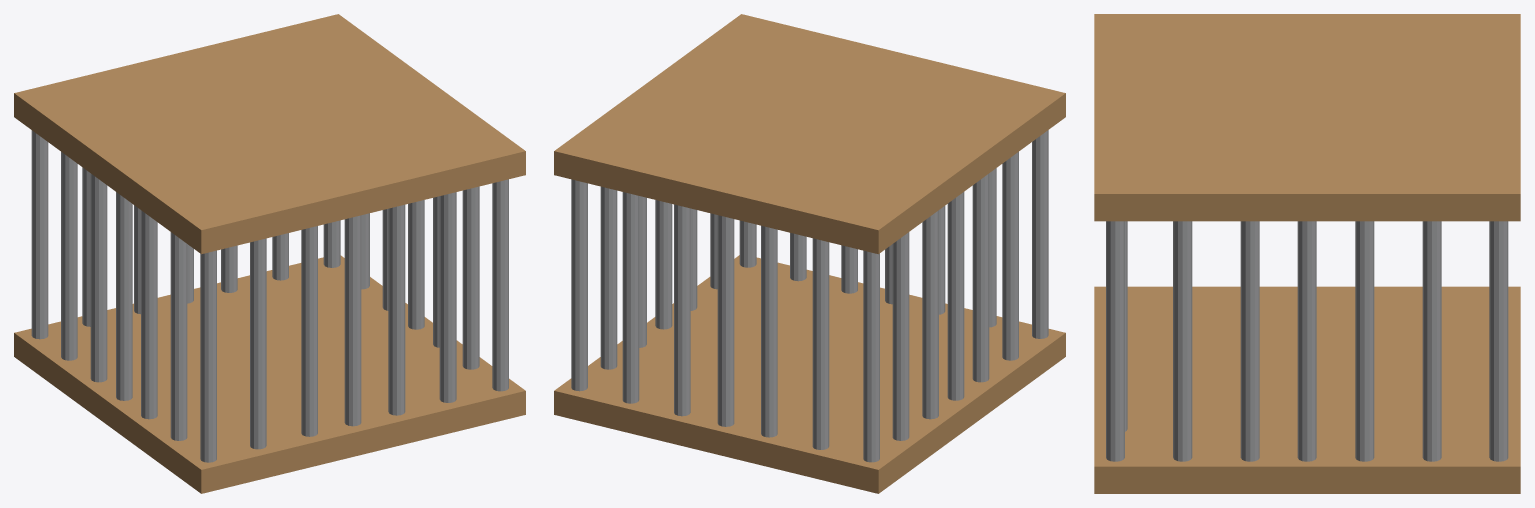
Rendered from cage.fbx.
3 views of the same model, side by side, from view 1: azimuth 30°, elevation 25°; view 2: azimuth 150°, elevation 25°; view 3: azimuth 270°, elevation 25° (orthographic). The views are drawn at different scales.
Parts seen in each view (by area): view 1: cage; view 2: cage; view 3: cage.
Part boxes in pixels (x1,y1,x2,y2): cage: (14,14,525,493); cage: (554,14,1065,493); cage: (1094,14,1520,493).
Bounding box in the file's own units: 6.34 × 4.93 × 6.34.
